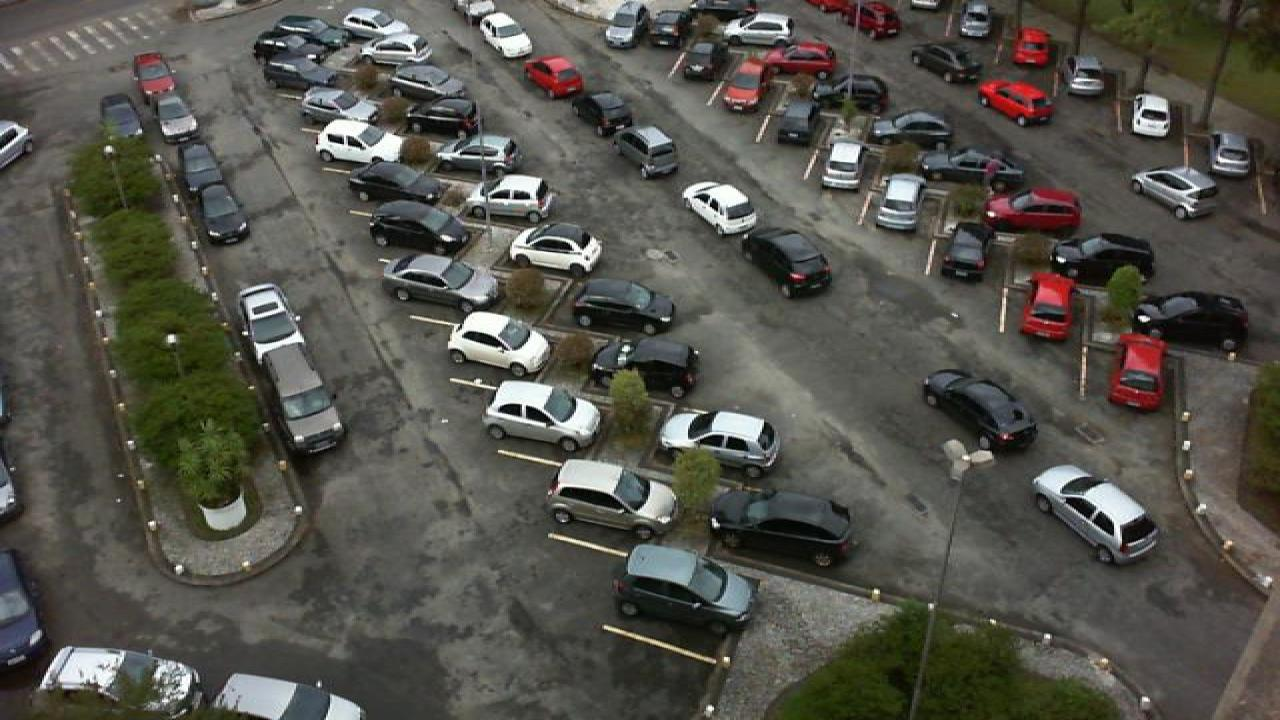Car: (612, 544, 762, 636), (34, 644, 204, 720), (708, 486, 856, 569), (256, 334, 348, 456), (546, 459, 674, 543), (480, 378, 606, 454), (656, 407, 782, 479), (446, 310, 554, 380), (208, 673, 366, 720), (1134, 290, 1250, 354), (378, 252, 502, 310), (590, 335, 700, 399), (564, 277, 678, 336), (364, 198, 472, 258), (1050, 231, 1160, 288), (232, 281, 304, 361), (504, 220, 606, 276), (0, 546, 44, 670), (980, 188, 1084, 236), (1108, 333, 1168, 413), (312, 117, 404, 168), (344, 156, 440, 204), (922, 142, 1026, 185), (462, 173, 550, 223), (1016, 271, 1076, 343), (432, 134, 520, 180), (870, 108, 956, 152), (392, 97, 480, 138), (872, 172, 928, 233), (938, 218, 988, 284), (814, 74, 892, 115), (200, 186, 252, 245), (756, 40, 836, 77), (250, 34, 328, 71), (298, 88, 370, 128), (272, 58, 346, 94), (150, 92, 202, 142), (372, 81, 452, 113), (816, 141, 866, 192), (356, 33, 436, 64), (386, 62, 462, 94), (180, 142, 228, 192), (1210, 130, 1258, 180), (268, 12, 342, 44), (720, 62, 764, 115), (670, 35, 720, 81), (720, 16, 794, 47), (772, 99, 820, 146), (132, 52, 178, 99), (1128, 93, 1174, 140), (644, 4, 688, 50), (340, 7, 406, 35), (1010, 24, 1052, 68), (1066, 54, 1106, 99), (682, 0, 758, 22), (956, 0, 994, 39)
